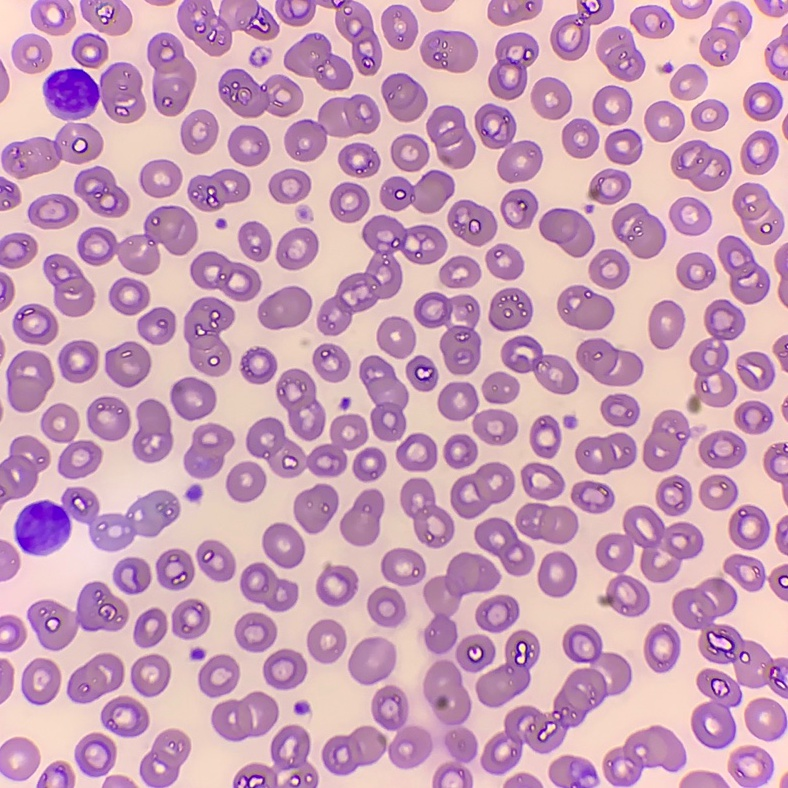RBC: (481, 625, 631, 773), (673, 577, 787, 747), (317, 216, 446, 334), (372, 660, 476, 787), (17, 487, 179, 550), (596, 506, 702, 582), (77, 206, 197, 273), (424, 553, 499, 654), (246, 415, 367, 477), (28, 582, 128, 650), (688, 300, 744, 412), (285, 95, 379, 160), (43, 63, 145, 122), (178, 0, 277, 55), (414, 292, 480, 374), (2, 123, 102, 177), (475, 104, 541, 181), (476, 631, 539, 707), (604, 726, 685, 785), (241, 725, 317, 787), (41, 404, 101, 478), (502, 336, 578, 393), (219, 69, 302, 117), (360, 356, 407, 440), (147, 33, 195, 115), (184, 297, 234, 375), (284, 33, 352, 89), (551, 0, 613, 59), (401, 478, 453, 547), (451, 463, 514, 518), (190, 251, 260, 300), (718, 236, 769, 303), (276, 369, 324, 439), (336, 0, 381, 74), (0, 436, 49, 503), (475, 518, 533, 574), (489, 33, 538, 99), (212, 692, 278, 740), (700, 2, 750, 65), (322, 726, 387, 774), (380, 170, 453, 212), (577, 338, 642, 385), (733, 183, 783, 244), (43, 254, 93, 315), (671, 140, 730, 190), (612, 203, 665, 258), (427, 106, 474, 168), (643, 410, 691, 470), (140, 730, 189, 787), (7, 351, 53, 411), (67, 653, 123, 702), (240, 563, 297, 611), (74, 167, 128, 216), (539, 208, 594, 256), (184, 424, 233, 477), (188, 169, 249, 210), (597, 27, 644, 80), (576, 433, 636, 474), (133, 399, 172, 462), (516, 503, 577, 543), (558, 285, 613, 329), (340, 490, 383, 545), (421, 30, 476, 72), (258, 286, 311, 328), (448, 200, 496, 245), (349, 638, 395, 684), (294, 484, 338, 532), (382, 74, 426, 121), (600, 575, 649, 616), (105, 342, 150, 386), (170, 377, 215, 419), (101, 696, 148, 736), (87, 397, 130, 440), (489, 288, 532, 330), (263, 523, 304, 567), (13, 304, 57, 344), (745, 698, 786, 740), (263, 649, 306, 689), (75, 733, 115, 776), (729, 746, 772, 786), (22, 659, 60, 704), (81, 0, 131, 34), (198, 655, 239, 696), (729, 506, 768, 549), (538, 552, 576, 596), (28, 194, 77, 228), (645, 623, 679, 672), (699, 431, 745, 467), (649, 301, 684, 348), (277, 228, 317, 269), (0, 738, 39, 780), (531, 78, 571, 118), (228, 125, 268, 165), (131, 655, 170, 696), (307, 620, 345, 662), (741, 131, 778, 174), (381, 549, 425, 585), (645, 101, 684, 141), (317, 566, 357, 605), (59, 341, 97, 382), (156, 549, 194, 590), (235, 613, 276, 651), (476, 595, 518, 632), (181, 110, 217, 153), (589, 249, 628, 288), (226, 462, 265, 501), (670, 197, 710, 235), (377, 317, 415, 357), (197, 541, 235, 581), (382, 5, 417, 48), (473, 410, 517, 444), (549, 756, 597, 787), (12, 34, 51, 72), (438, 382, 477, 420), (140, 160, 181, 196), (522, 463, 563, 499), (31, 0, 74, 34), (744, 82, 782, 120), (593, 86, 631, 124), (330, 183, 368, 221), (368, 587, 405, 626), (172, 599, 209, 638), (276, 0, 333, 25), (501, 189, 537, 228), (109, 278, 148, 314), (397, 434, 436, 470), (724, 555, 764, 590), (589, 169, 630, 203), (630, 5, 673, 37), (138, 307, 175, 344), (113, 557, 150, 594), (562, 119, 598, 157), (677, 253, 715, 289), (737, 352, 773, 390), (456, 635, 494, 671), (269, 169, 310, 202), (488, 0, 542, 25), (391, 134, 428, 170), (313, 344, 349, 381), (657, 476, 691, 515), (339, 143, 379, 176), (486, 244, 523, 279), (572, 481, 613, 512), (670, 64, 706, 99), (605, 129, 641, 164), (134, 608, 166, 647), (440, 256, 480, 287), (530, 416, 560, 457), (241, 348, 276, 383), (0, 233, 36, 267), (700, 475, 736, 509), (72, 33, 107, 67), (601, 394, 638, 426), (239, 222, 270, 260), (735, 401, 771, 433), (692, 99, 727, 130), (483, 372, 518, 403), (406, 356, 437, 390), (444, 435, 476, 467), (353, 448, 385, 480), (37, 762, 74, 787), (0, 616, 25, 651), (0, 541, 19, 580), (671, 0, 710, 18), (775, 245, 787, 303), (681, 772, 726, 787), (0, 178, 20, 210), (765, 443, 785, 472), (770, 565, 787, 599), (0, 659, 13, 701), (505, 773, 540, 787), (757, 0, 787, 16), (0, 273, 13, 308), (774, 335, 787, 369), (776, 517, 787, 553), (250, 47, 270, 65), (103, 775, 133, 787), (422, 0, 451, 11), (0, 67, 8, 98), (769, 62, 785, 77), (186, 485, 201, 501), (777, 473, 787, 495), (776, 27, 787, 46), (294, 701, 309, 714), (190, 648, 204, 659), (564, 415, 575, 427), (300, 209, 308, 217), (153, 0, 168, 4), (782, 778, 787, 787), (783, 403, 787, 414), (783, 121, 787, 131)
